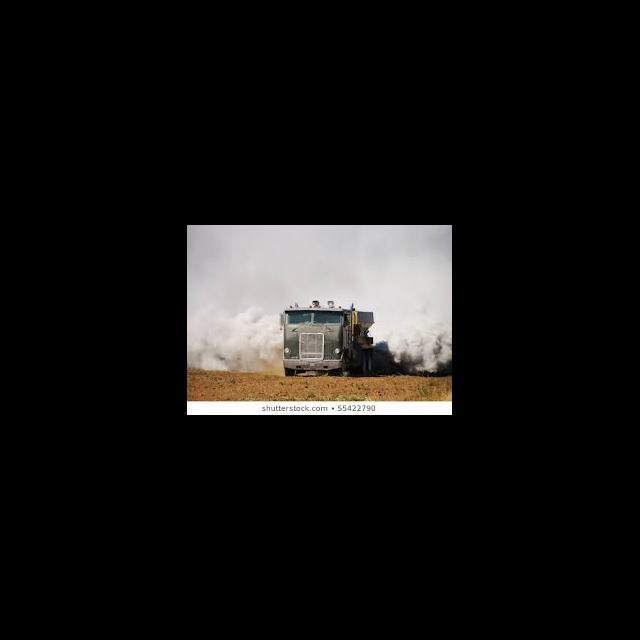Smoke: (188, 231, 452, 371)
